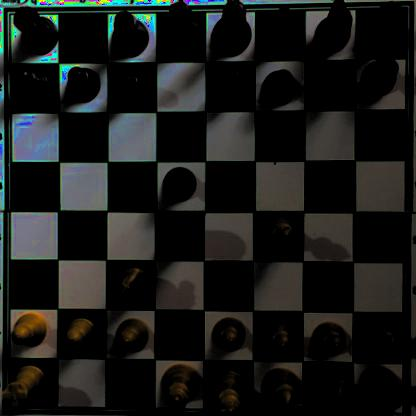black-bishop: (255, 5, 296, 53), (111, 11, 152, 57)
black-king: (210, 1, 251, 55)
black-knight: (315, 1, 354, 53), (157, 215, 196, 258)
black-pawn: (7, 66, 50, 105), (107, 69, 146, 106), (160, 163, 197, 202), (361, 56, 399, 93), (214, 68, 249, 107), (311, 67, 346, 106), (260, 69, 296, 105), (65, 65, 100, 100)
black-queen: (159, 1, 202, 55)
black-rook: (356, 1, 404, 54), (12, 3, 59, 54)
white-bishop: (258, 209, 303, 257), (262, 363, 302, 411)
white-king: (205, 366, 248, 416)
white-knight: (309, 369, 346, 416), (113, 264, 152, 306)
white-pawn: (8, 309, 50, 351), (61, 314, 100, 355), (361, 321, 404, 356), (261, 320, 299, 359), (210, 315, 247, 353), (112, 316, 150, 352), (310, 322, 347, 355)
white-queen: (157, 360, 200, 412)
white-rook: (1, 361, 49, 411), (357, 364, 405, 412)
